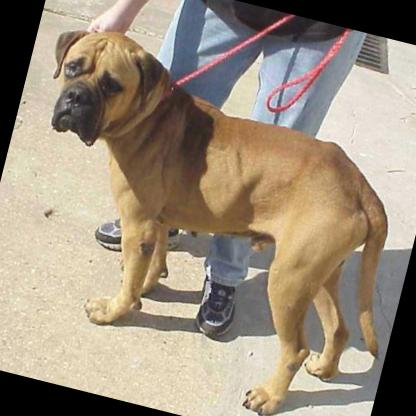bull_mastiff: (0, 16, 416, 416)
